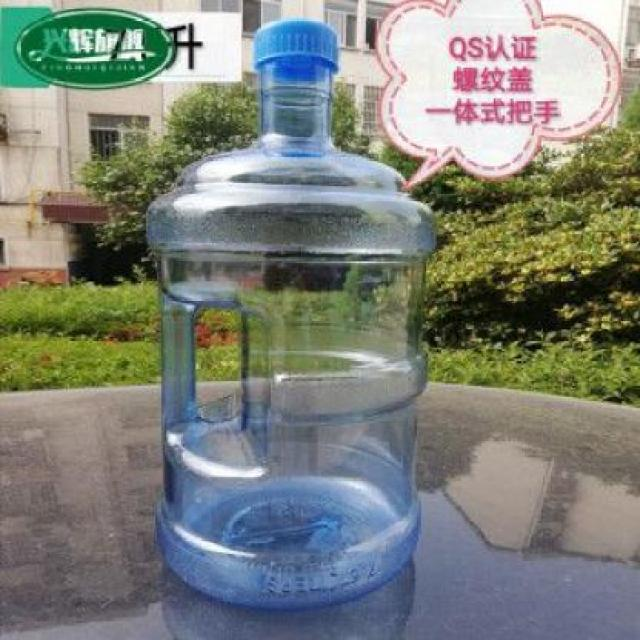coolerbottle: (146, 14, 439, 616)
